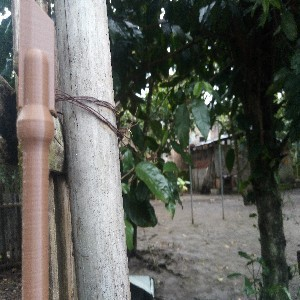cutter: (16, 1, 56, 300)
